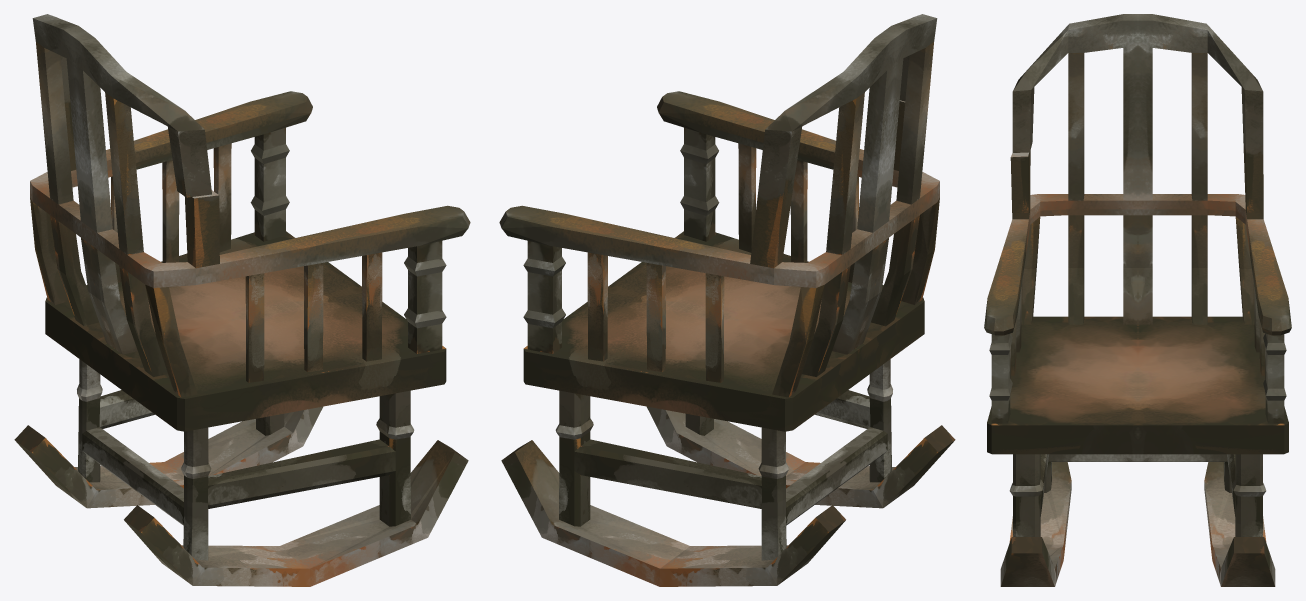
Rendered from Rocking_chair01.fbx.
The picture shows the model from 3 angles, left to right: view 1: azimuth 30°, elevation 25°; view 2: azimuth 150°, elevation 25°; view 3: azimuth 270°, elevation 25°; orthographic projection. The views are drawn at different scales.
Visible parts, largest first — view 1: Rocking_chair01; view 2: Rocking_chair01; view 3: Rocking_chair01.
Boxes of the visible parts, bbox=[...] form: Rocking_chair01: bbox=[14, 14, 470, 586]; Rocking_chair01: bbox=[499, 14, 955, 586]; Rocking_chair01: bbox=[984, 14, 1291, 586].
Bounding box in the file's own units: 0.765 × 1.21 × 0.7096.
1 material, 1 textured.
